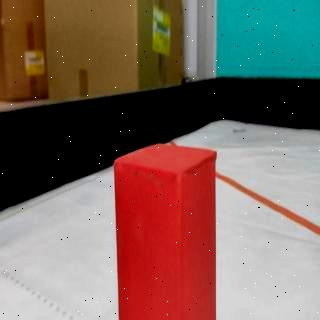redbox: (114, 143, 216, 320)
